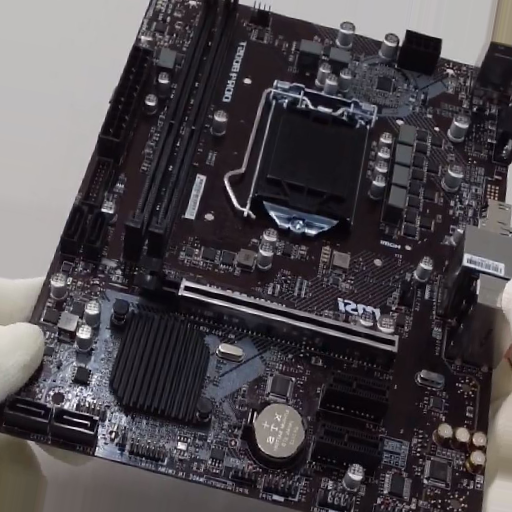CPU: (263, 78, 376, 235)
GPU: (140, 256, 400, 353)
MOTHERBOARD: (2, 1, 503, 509)
RAM: (123, 1, 241, 258)
